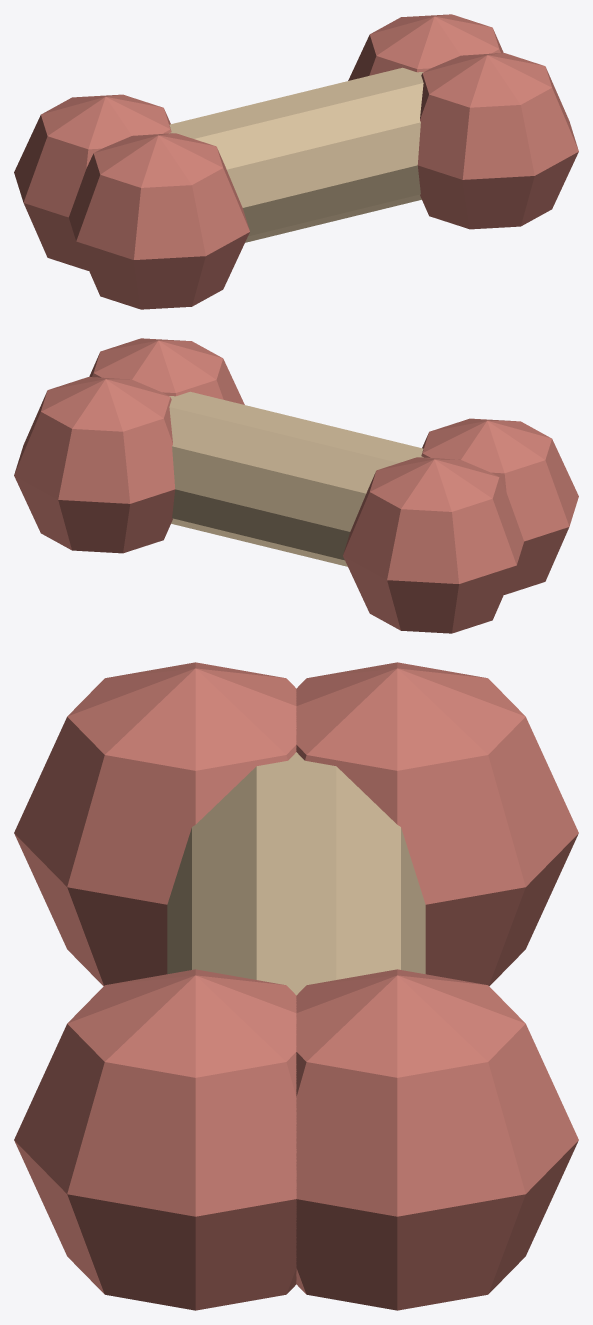
Rendered from pets_brinquedo2.glb.
The picture shows the model from 3 angles, top to bottom: view 1: azimuth 30°, elevation 25°; view 2: azimuth 150°, elevation 25°; view 3: azimuth 270°, elevation 25°; orthographic projection. The views are drawn at different scales.
Visible parts, largest first — view 1: PETS_BRINQUEDO2_v01; view 2: PETS_BRINQUEDO2_v01; view 3: PETS_BRINQUEDO2_v01.
Part boxes in pixels (x1,y1,x2,y2): PETS_BRINQUEDO2_v01: (14,14,578,309); PETS_BRINQUEDO2_v01: (14,338,578,633); PETS_BRINQUEDO2_v01: (14,662,578,1310).
Size of the model in its own units: 0.27 by 0.09 by 0.14.
